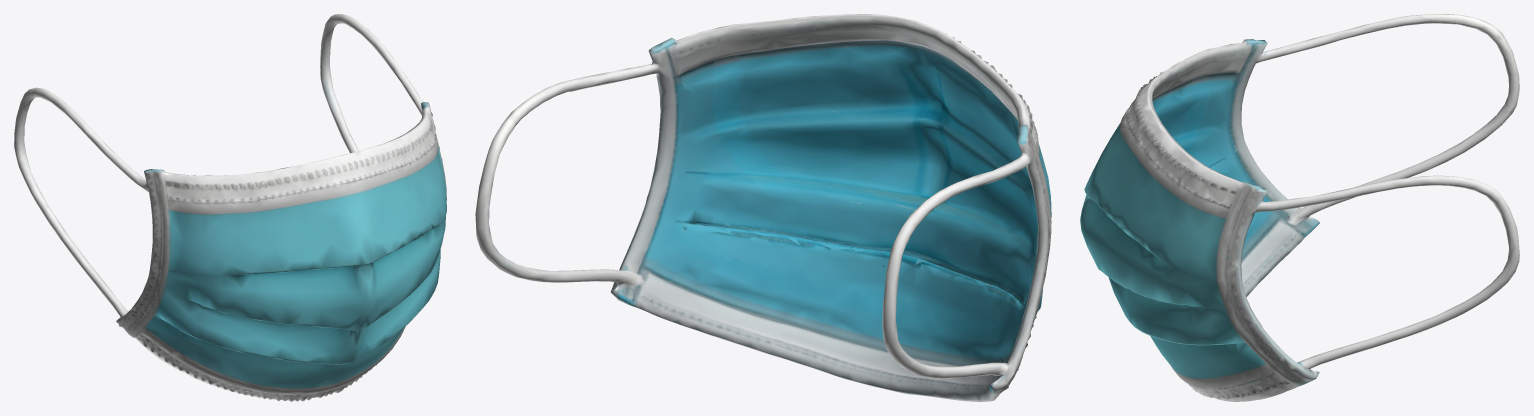
Rendered from Mascarilla.fbx.
3 views of the same model, side by side, from view 1: azimuth 30°, elevation 25°; view 2: azimuth 150°, elevation 25°; view 3: azimuth 270°, elevation 25° (orthographic). The views are drawn at different scales.
Visible parts, largest first — view 1: Mesh1.0; view 2: Mesh1.0; view 3: Mesh1.0.
Boxes of the visible parts, x1,y1,x2,y2 form: Mesh1.0: [14, 14, 446, 401]; Mesh1.0: [475, 14, 1051, 401]; Mesh1.0: [1080, 14, 1519, 401].
Size of the model in its own units: 1.73 by 1.36 by 1.91.
Materials: 1 (1 with a texture image).
